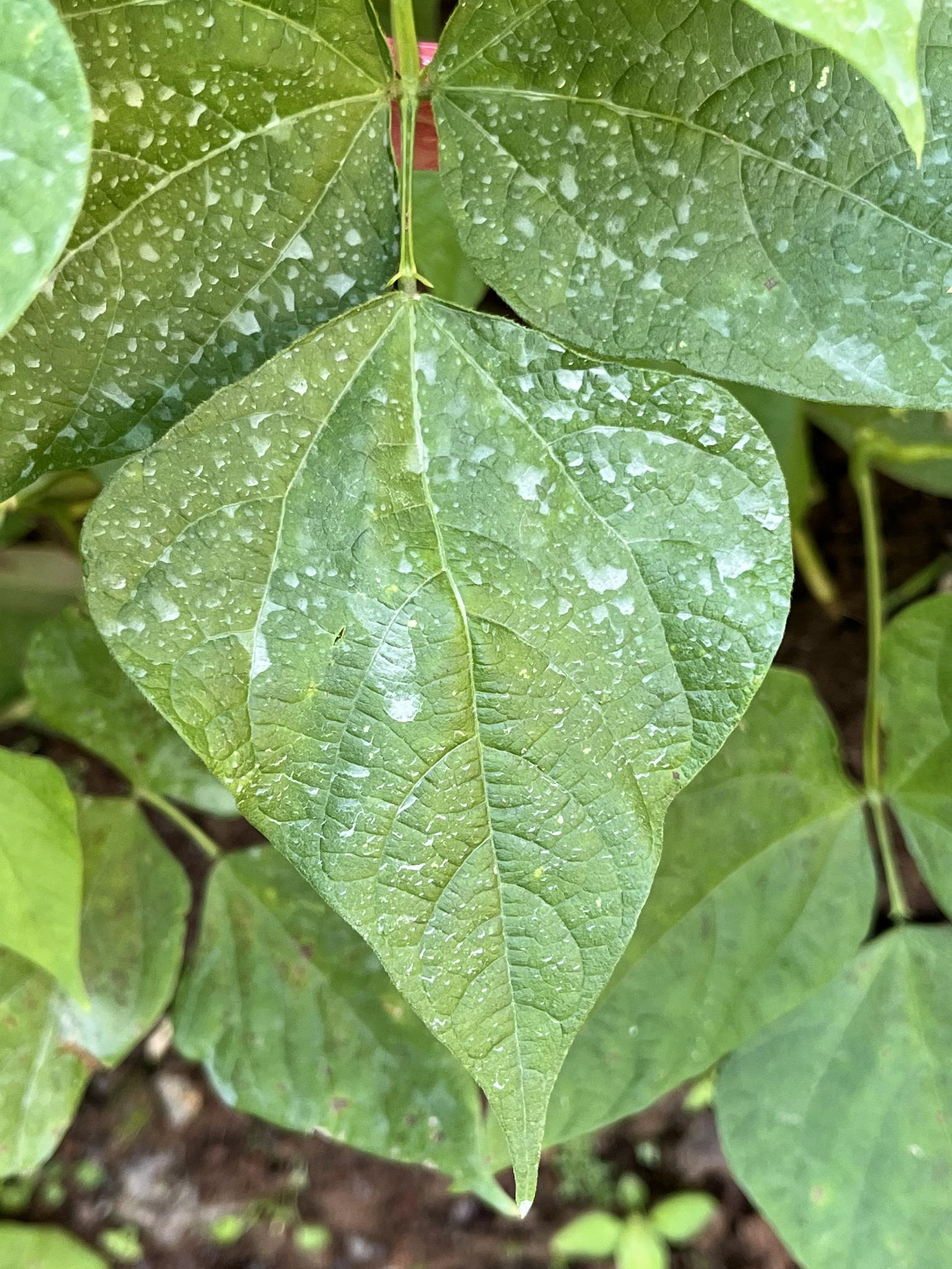embun tepung: (64, 281, 807, 864), (419, 0, 950, 423), (0, 0, 404, 484)
